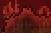crimstone: (1, 0, 51, 33)
